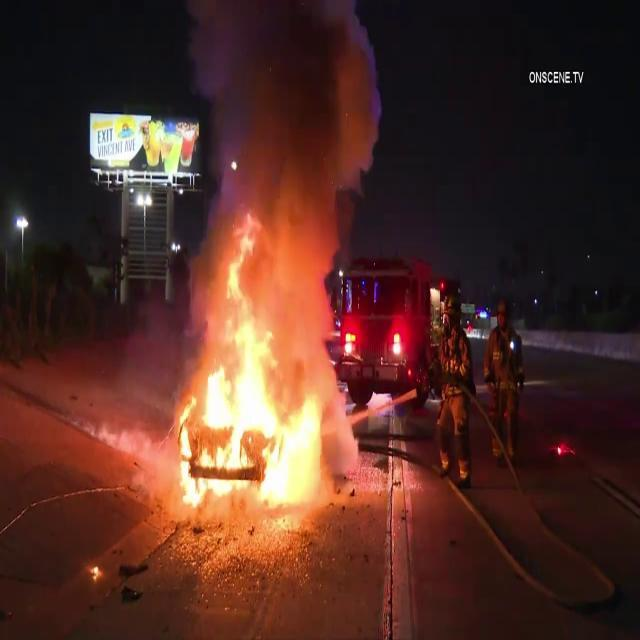Fire: (174, 252, 336, 513)
Smoke: (190, 0, 386, 257)
